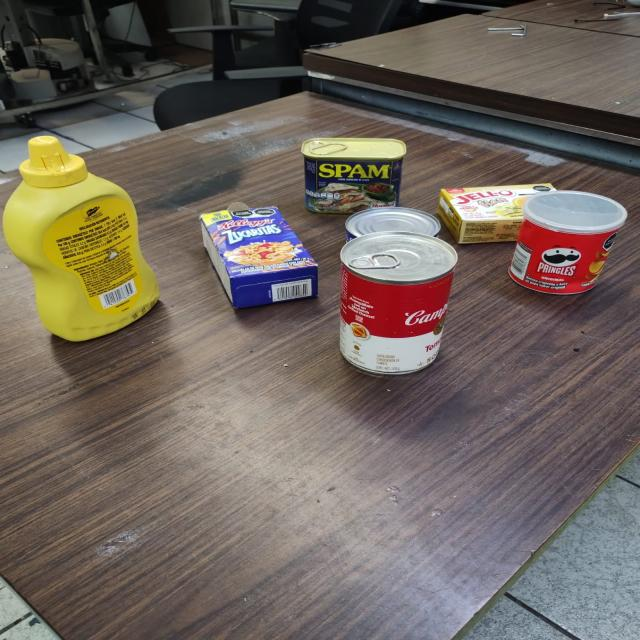can of cream: (338, 231, 458, 379)
can of tuna: (342, 207, 440, 245)
cereal: (197, 204, 321, 309)
chips: (507, 190, 628, 295)
jelly: (439, 183, 553, 244)
mustard: (3, 138, 170, 342)
spam: (300, 138, 406, 215)
